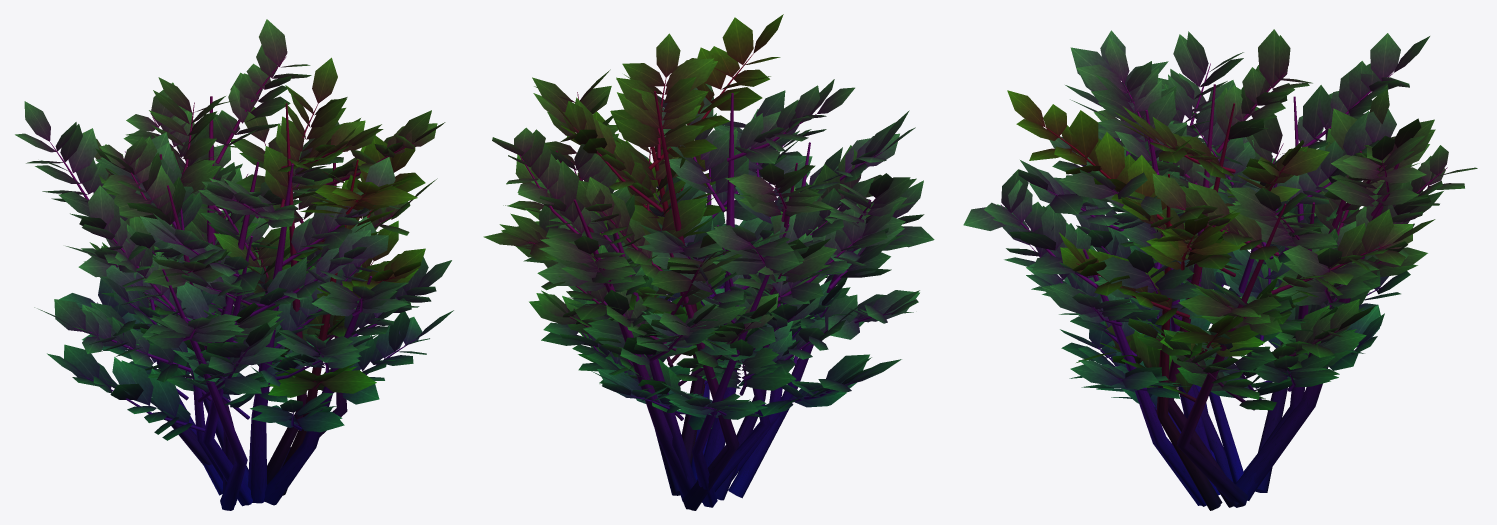
File: laurel_lod0.glb
The picture shows the model from 3 angles, left to right: view 1: azimuth 30°, elevation 25°; view 2: azimuth 150°, elevation 25°; view 3: azimuth 270°, elevation 25°; orthographic projection. The views are drawn at different scales.
Visible parts, largest first — view 1: laurel_lod0; view 2: laurel_lod0; view 3: laurel_lod0.
Part boxes in pixels (<box>): laurel_lod0: <box>15,19,453,510</box>; laurel_lod0: <box>483,14,934,510</box>; laurel_lod0: <box>963,29,1477,510</box>.
Size of the model in its own units: 1.86 by 1.79 by 1.94.
Materials: 2 (2 with a texture image).
